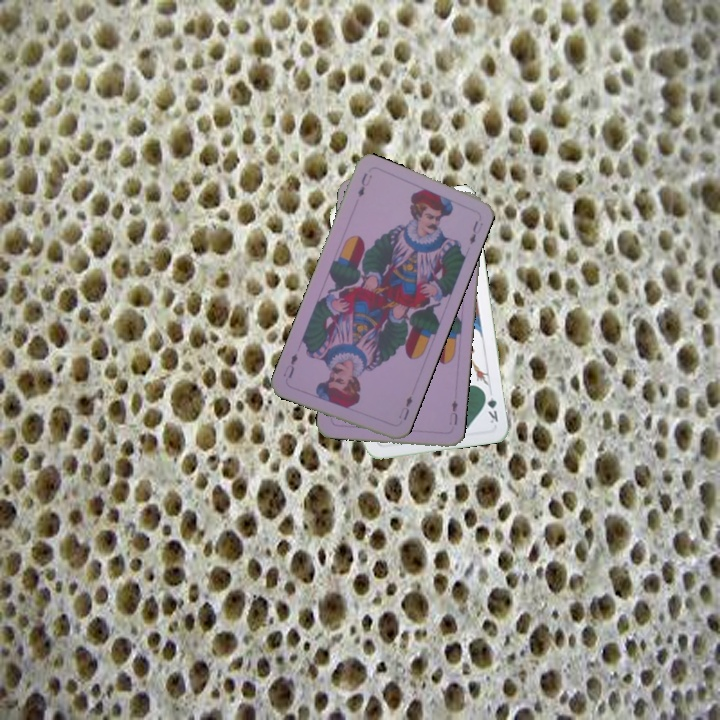EU: (394, 392, 415, 423), (354, 169, 375, 200), (445, 396, 460, 428)
GK: (480, 387, 501, 426)
